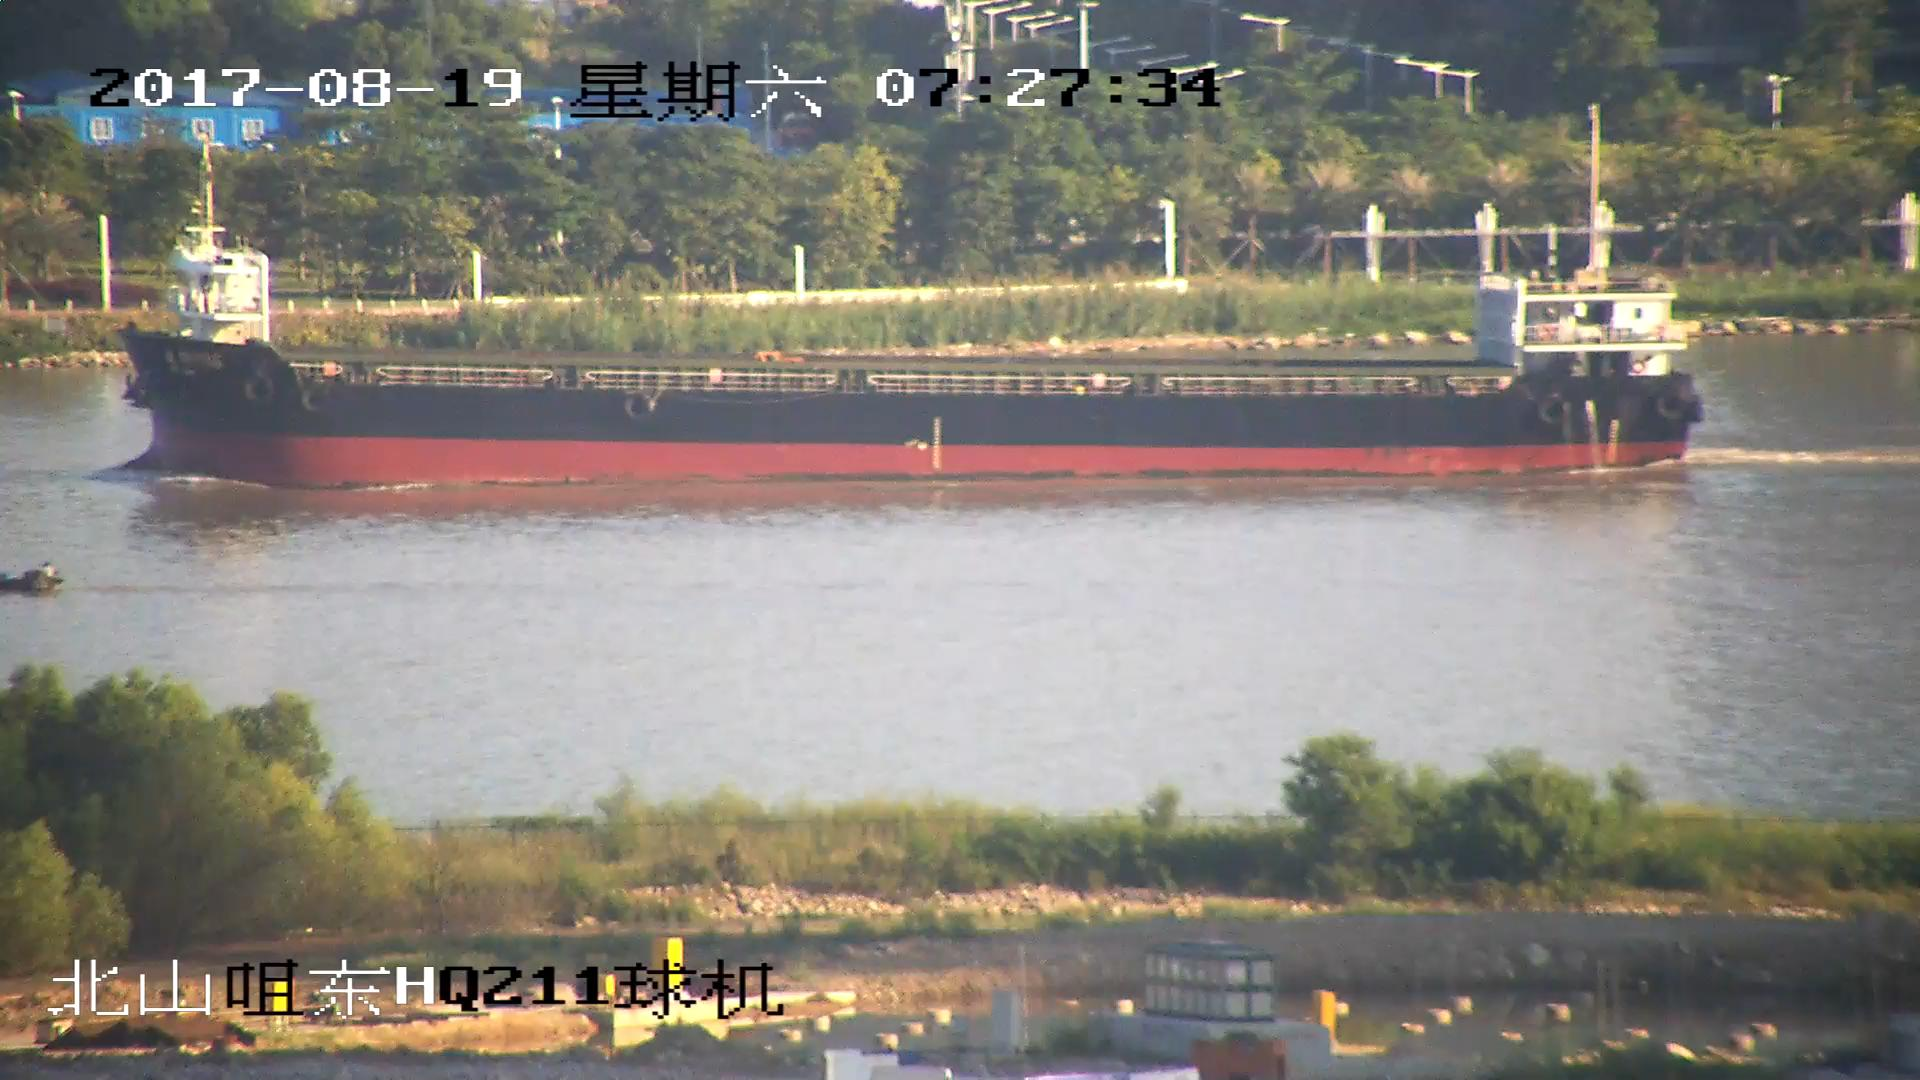general cargo ship: (125, 228, 1703, 486)
